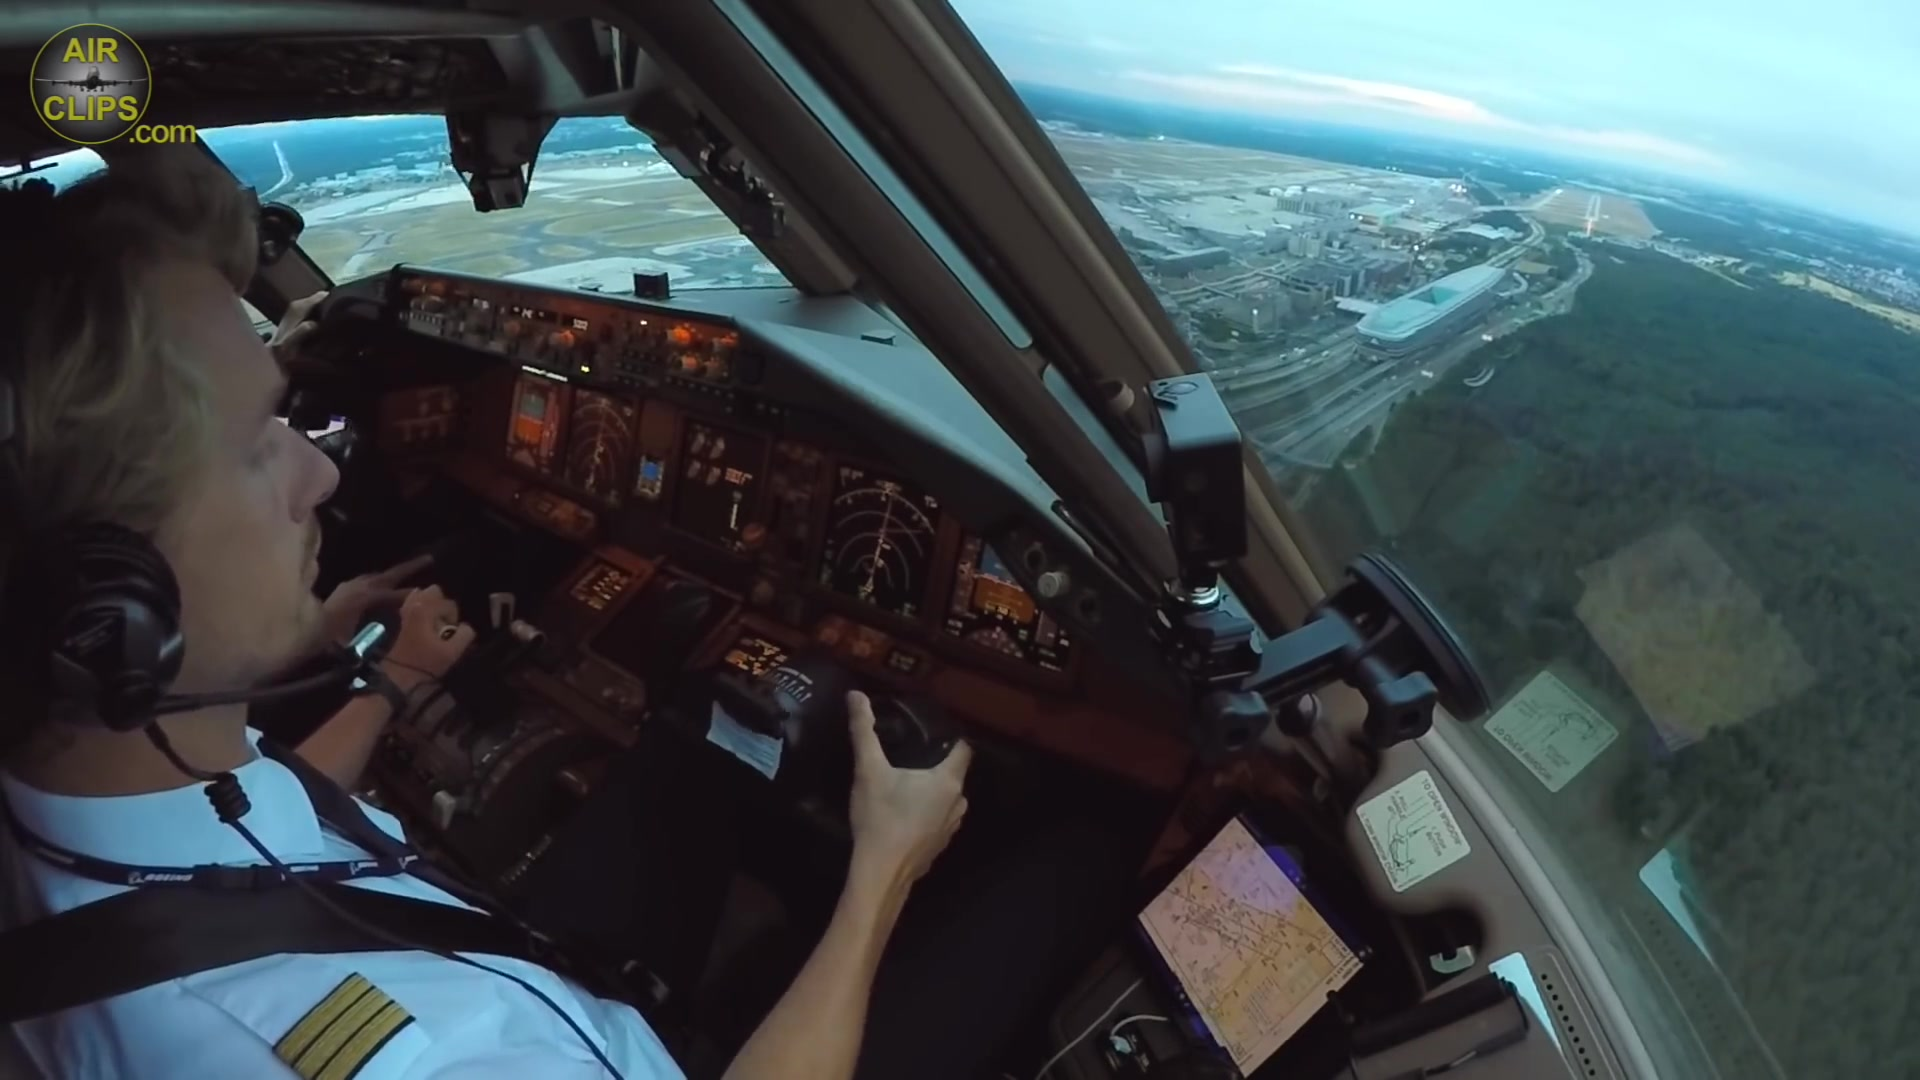runway: (1582, 193, 1604, 222)
